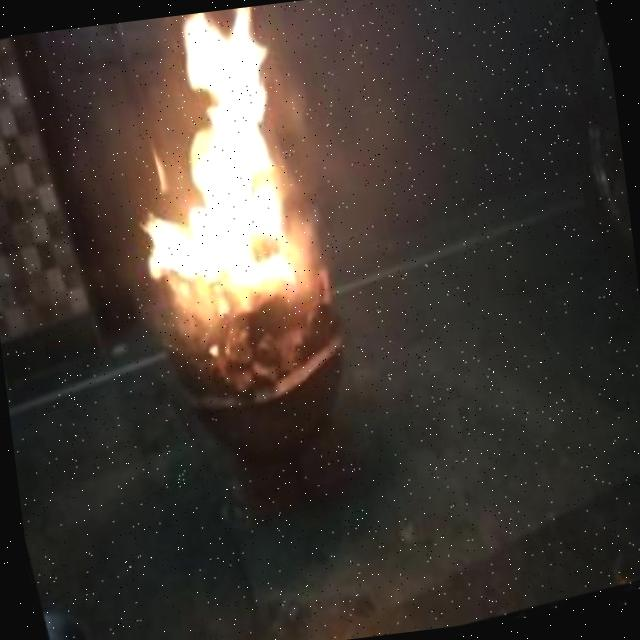fire: (88, 1, 332, 336)
